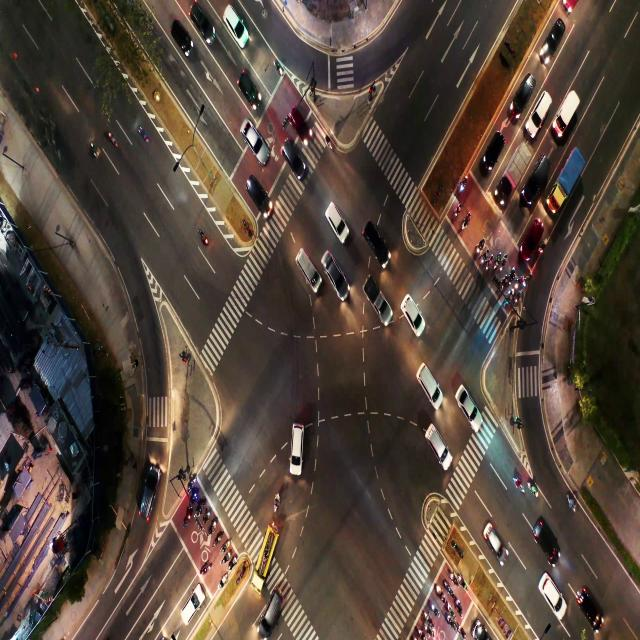bus: (260, 537, 270, 561)
car: (227, 18, 251, 43), (241, 126, 266, 146), (139, 460, 154, 493), (200, 6, 213, 42), (178, 21, 190, 56), (242, 75, 256, 104), (181, 599, 198, 620), (328, 256, 339, 286), (368, 224, 381, 249), (461, 392, 472, 418), (534, 95, 546, 116), (520, 80, 528, 111), (302, 261, 314, 280), (264, 601, 273, 626), (582, 596, 594, 614), (294, 438, 303, 462), (288, 143, 300, 160), (540, 526, 550, 546), (534, 165, 542, 190), (333, 211, 343, 230), (529, 220, 537, 243), (249, 181, 259, 199), (490, 528, 499, 548), (549, 30, 558, 50), (422, 365, 430, 386), (432, 433, 440, 453), (297, 116, 306, 131), (547, 584, 555, 598), (488, 138, 496, 152), (406, 302, 414, 312)
motorcycle: (108, 137, 124, 155), (89, 146, 100, 162), (275, 57, 283, 77), (201, 230, 210, 247), (324, 136, 332, 154), (568, 489, 574, 513), (528, 478, 538, 492), (512, 475, 521, 490), (141, 126, 148, 144), (273, 494, 279, 508), (184, 512, 190, 524), (199, 502, 204, 516), (459, 575, 465, 585), (484, 250, 489, 260), (456, 602, 461, 612), (461, 179, 465, 191), (451, 575, 457, 583), (418, 630, 424, 638), (204, 561, 209, 570), (223, 542, 228, 551), (444, 579, 449, 588), (224, 553, 228, 564), (516, 277, 520, 288), (209, 523, 214, 531), (464, 215, 468, 225), (438, 588, 442, 598), (458, 627, 463, 635), (425, 612, 429, 622), (205, 512, 209, 521), (456, 205, 460, 214), (488, 255, 492, 264), (524, 275, 527, 286), (221, 576, 225, 584), (517, 292, 521, 300), (430, 603, 434, 611), (188, 477, 191, 487), (216, 532, 219, 542), (480, 240, 483, 250), (502, 277, 505, 287), (424, 627, 429, 633), (448, 604, 452, 611), (508, 291, 511, 300), (501, 259, 504, 267), (542, 240, 544, 252), (510, 269, 512, 280), (193, 492, 195, 500), (496, 256, 498, 264), (230, 561, 232, 567), (448, 617, 450, 622)
truck: (368, 280, 381, 306), (559, 101, 572, 126), (513, 155, 521, 184), (565, 162, 573, 191)
